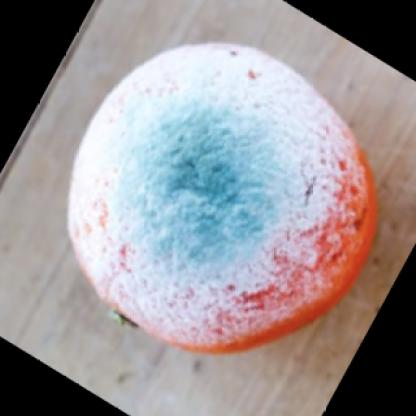rotten: (70, 43, 378, 355)
